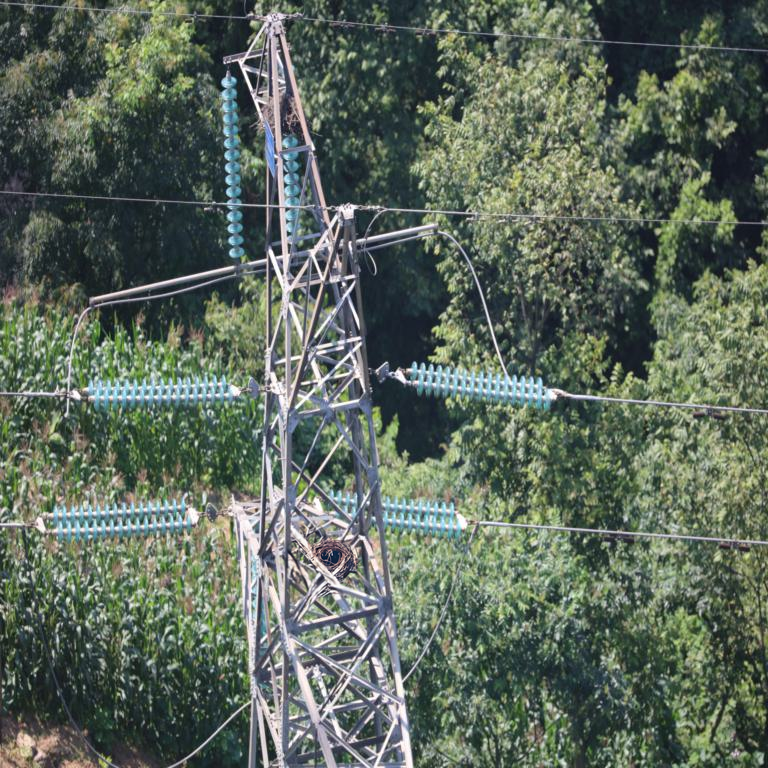nest: (260, 93, 297, 133), (311, 541, 356, 573)
